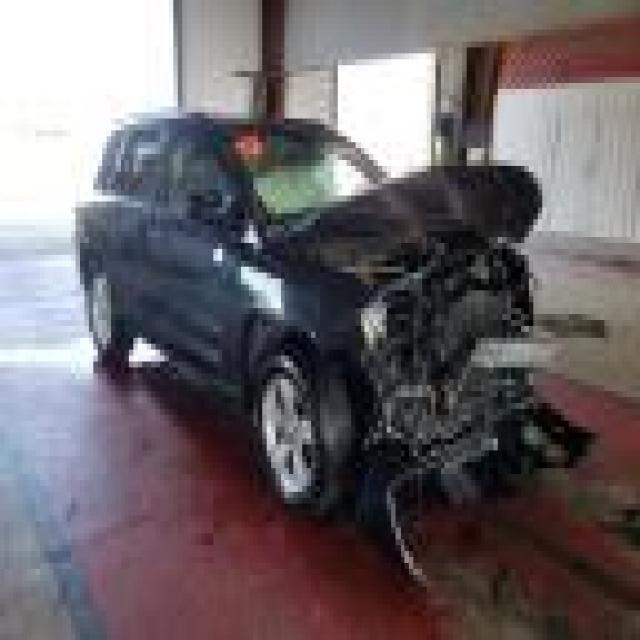severe: (258, 174, 590, 502)
